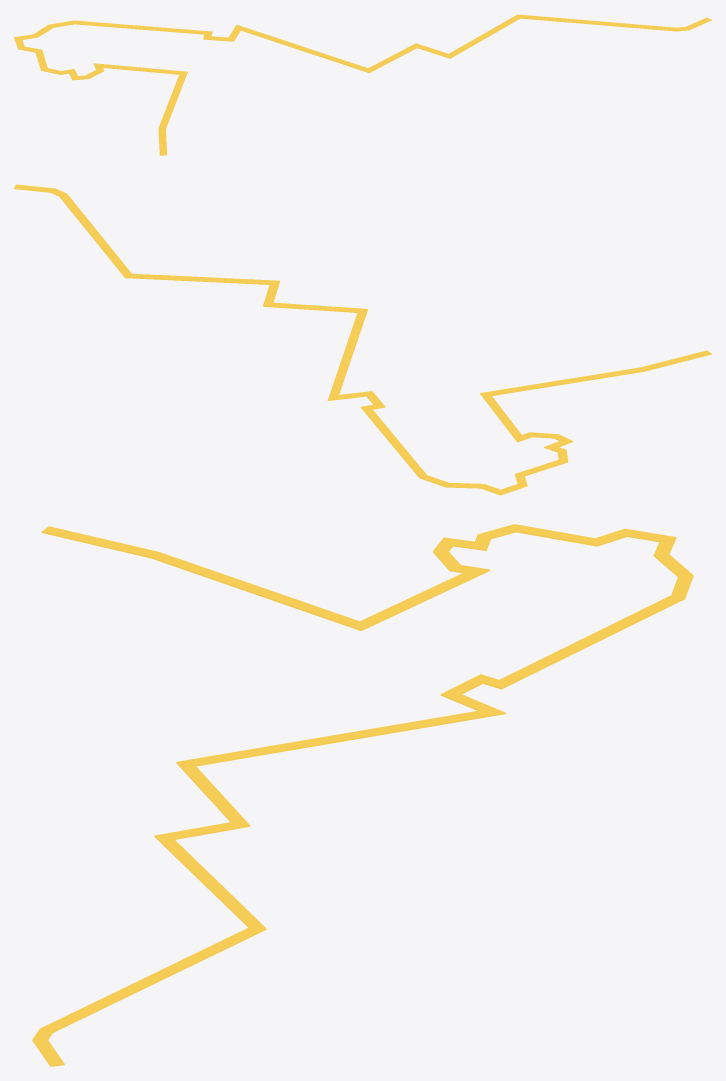
File: ROUTE.fbx
The picture shows the model from 3 angles, top to bottom: view 1: azimuth 30°, elevation 25°; view 2: azimuth 150°, elevation 25°; view 3: azimuth 270°, elevation 25°; orthographic projection. The views are drawn at different scales.
Visible parts, largest first — view 1: ROUTE; view 2: ROUTE; view 3: ROUTE.
Boxes of the visible parts, x1,y1,x2,y2 form: ROUTE: (14,14,711,155); ROUTE: (14,184,711,495); ROUTE: (32,524,693,1066).
Size of the model in its own units: 174 by 89.72 by 0.2.
